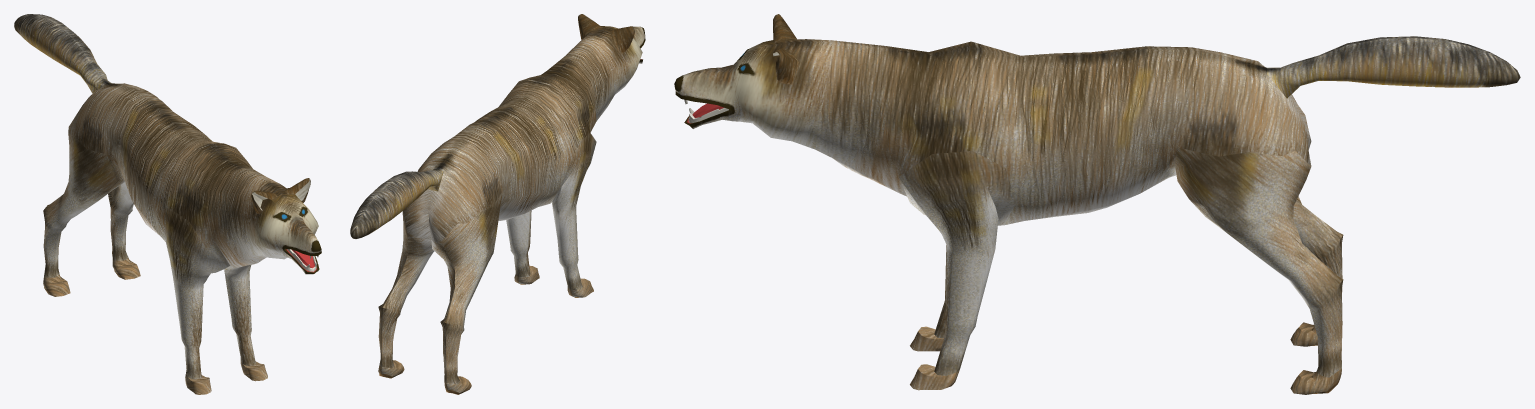
File: wolf.glb
The picture shows the model from 3 angles, left to right: view 1: azimuth 30°, elevation 25°; view 2: azimuth 150°, elevation 25°; view 3: azimuth 270°, elevation 25°; orthographic projection. The views are drawn at different scales.
Visible parts, largest first — view 1: Wolf1; view 2: Wolf1; view 3: Wolf1.
Part boxes in pixels (box(x1,y1,x2,y2)): Wolf1: box(14, 14, 321, 394); Wolf1: box(350, 14, 645, 394); Wolf1: box(674, 14, 1520, 394).
Bounding box in the file's own units: 0.4765 × 1.2 × 2.76.
Materials: 2 (1 with a texture image).
